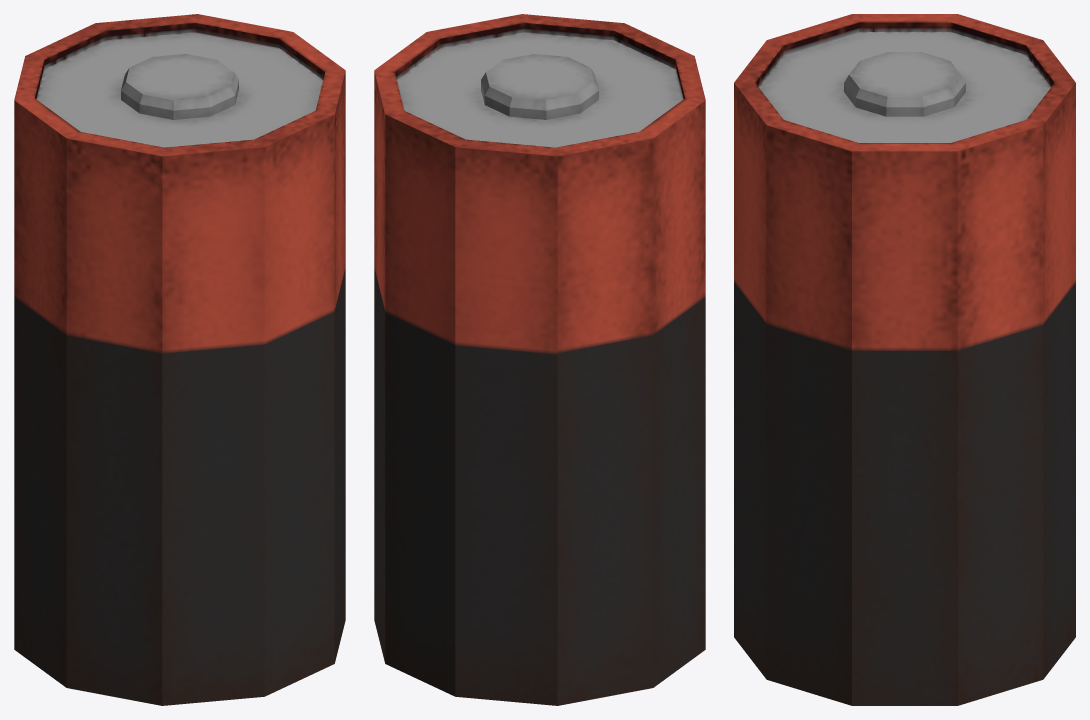
File: Battery Nicole.fbx
The picture shows the model from 3 angles, left to right: view 1: azimuth 30°, elevation 25°; view 2: azimuth 150°, elevation 25°; view 3: azimuth 270°, elevation 25°; orthographic projection.
Visible parts, largest first — view 1: Battery; view 2: Battery; view 3: Battery.
Boxes of the visible parts, x1,y1,x2,y2 form: Battery: (14, 14, 345, 705); Battery: (374, 14, 705, 705); Battery: (734, 14, 1075, 705).
Size of the model in its own units: 58.79 by 114 by 61.81.
